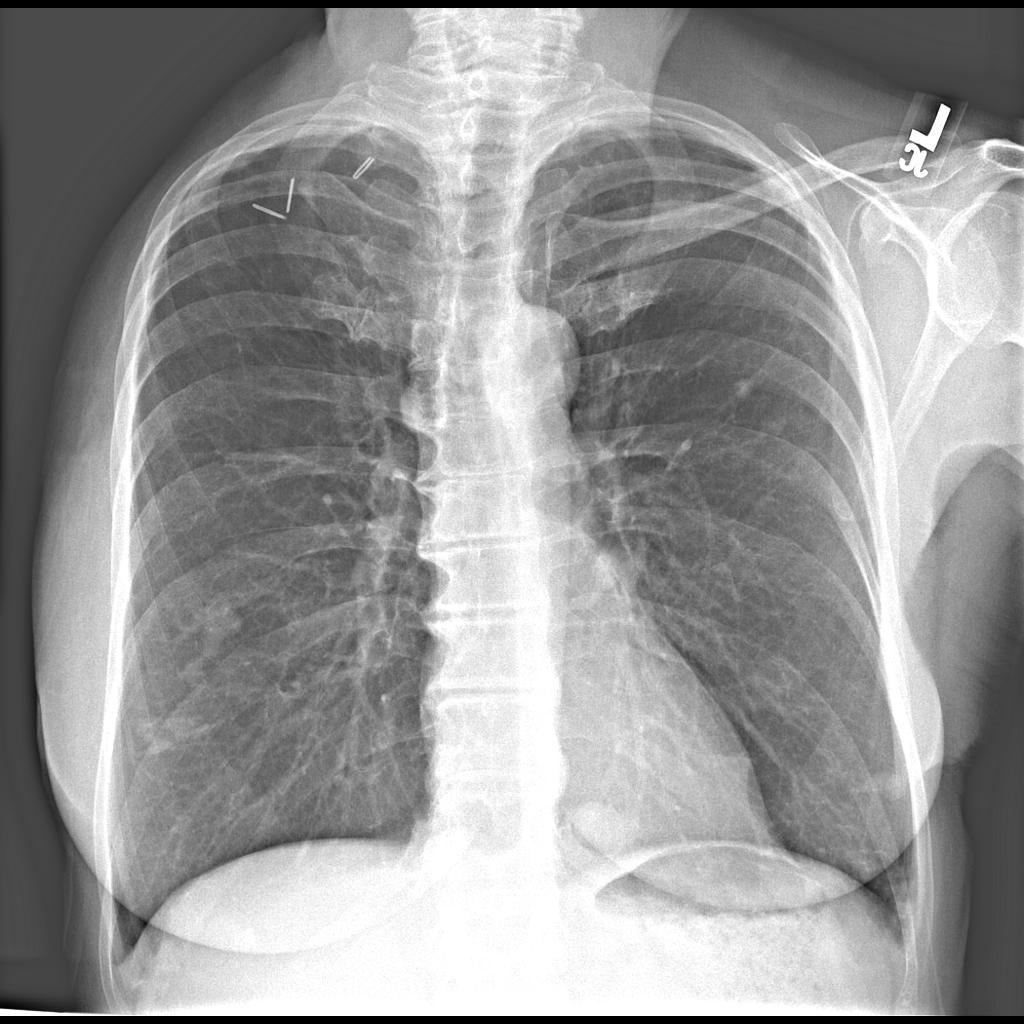Nodule: (573, 792, 627, 862), (195, 594, 242, 646), (724, 374, 759, 408)
